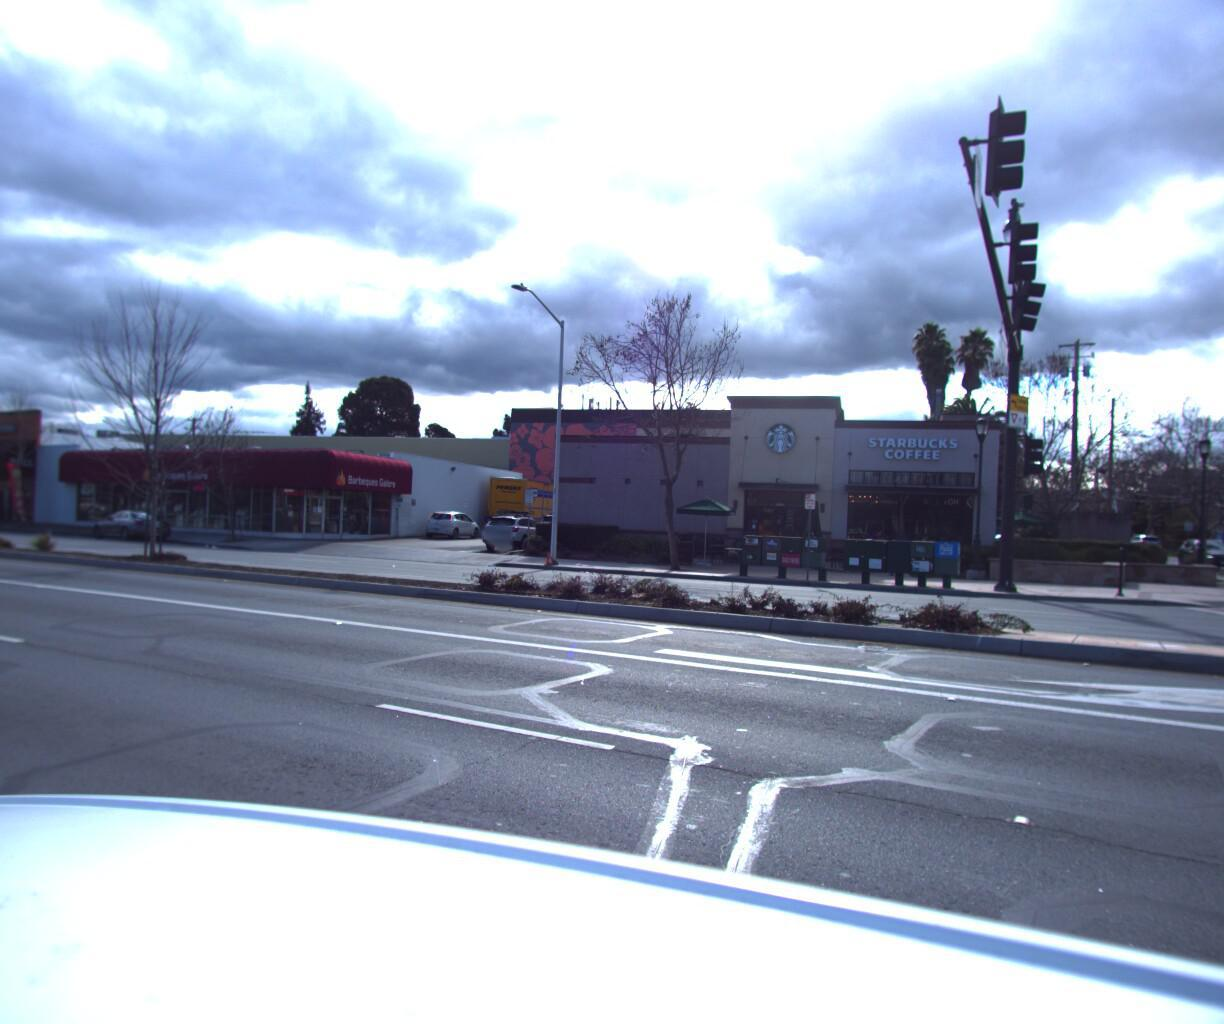car: (479, 503, 554, 546), (89, 503, 174, 537)
